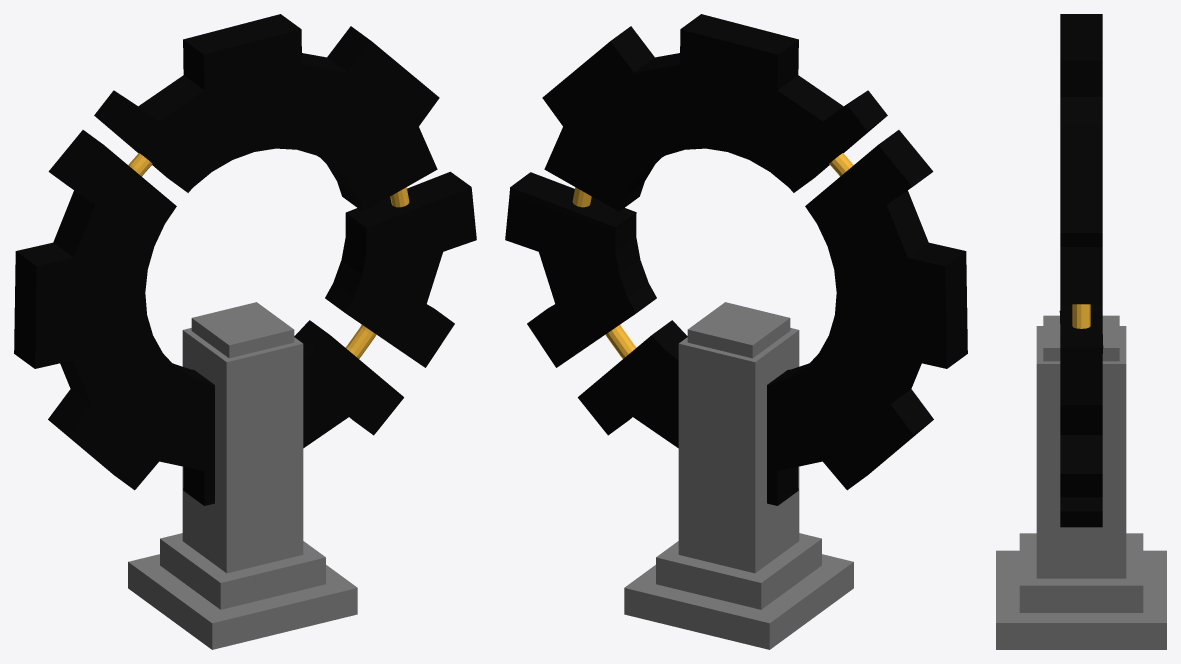
The model's file is MonumentZeroIteration.fbx.
3 renders of one model, left to right at view 1: azimuth 30°, elevation 25°; view 2: azimuth 150°, elevation 25°; view 3: azimuth 270°, elevation 25°, orthographic.
Parts seen in each view (by area): view 1: Plane.002, MonumentZeroIteration; view 2: Plane.002, MonumentZeroIteration; view 3: MonumentZeroIteration, Plane.002.
Boxes of the visible parts, bbox=[...] form: Plane.002: bbox=[14, 14, 476, 505]; MonumentZeroIteration: bbox=[128, 302, 357, 649]; Plane.002: bbox=[505, 14, 967, 505]; MonumentZeroIteration: bbox=[624, 302, 853, 649]; MonumentZeroIteration: bbox=[996, 315, 1166, 649]; Plane.002: bbox=[1059, 14, 1103, 527].
Size of the model in its own units: 3732 by 4584 by 1230.
